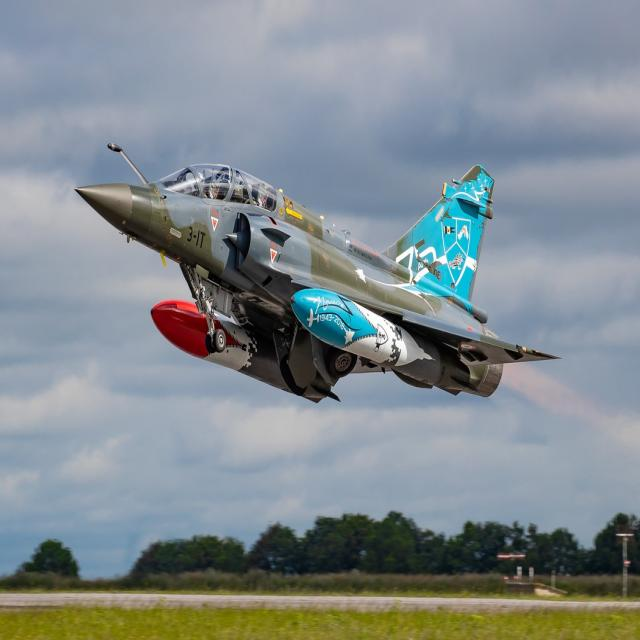MIL_Plane: (73, 143, 563, 404)
